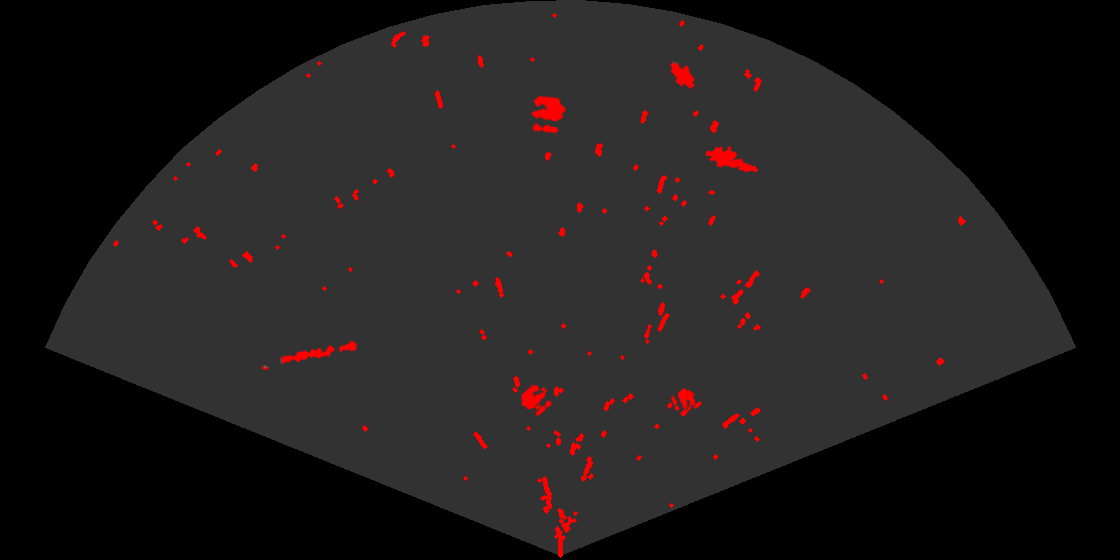AUV: (669, 60, 696, 90)
ball: (529, 94, 567, 135), (519, 383, 553, 418), (669, 386, 697, 413)
chain: (260, 339, 359, 372)
frogman: (706, 144, 758, 174)
